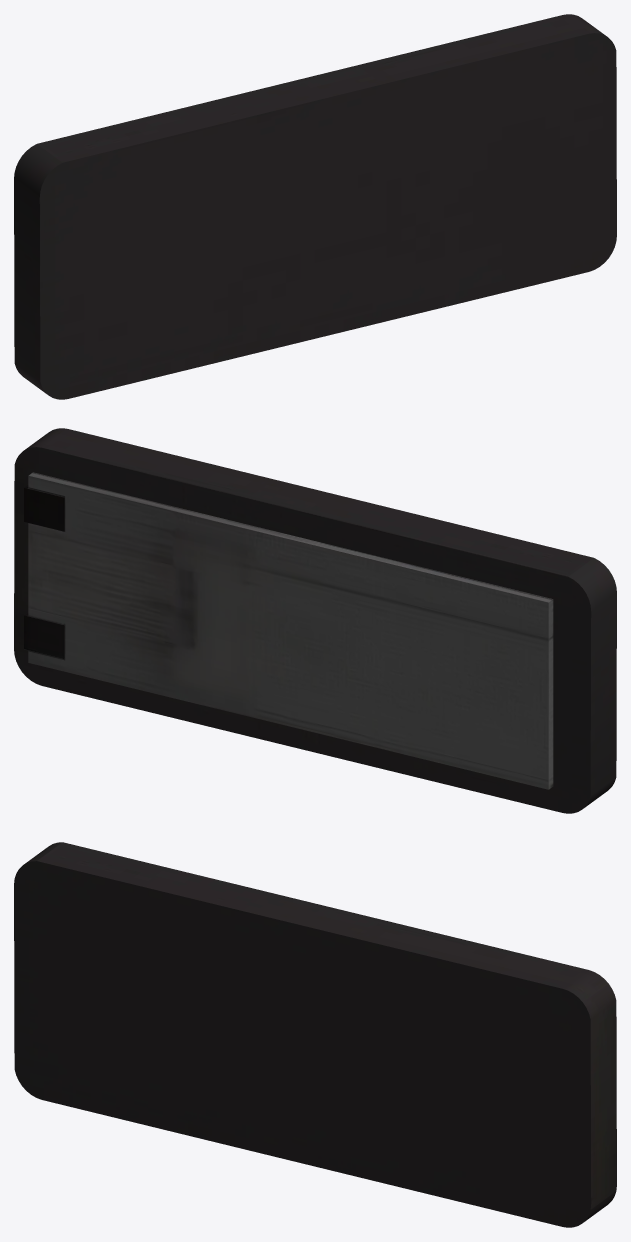
File: back_pad.glb
3 views of the same model, one above another, from view 1: azimuth 30°, elevation 25°; view 2: azimuth 150°, elevation 25°; view 3: azimuth 330°, elevation 25° (orthographic).
Parts seen in each view (by area): view 1: world; view 2: world; view 3: world.
Boxes of the visible parts, x1,y1,x2,y2 form: world: (14,14,616,399); world: (14,428,616,813); world: (14,842,616,1227).
Bounding box in the file's own units: 0.71 × 0.28 × 0.0685.
Materials: 1 (1 with a texture image).
